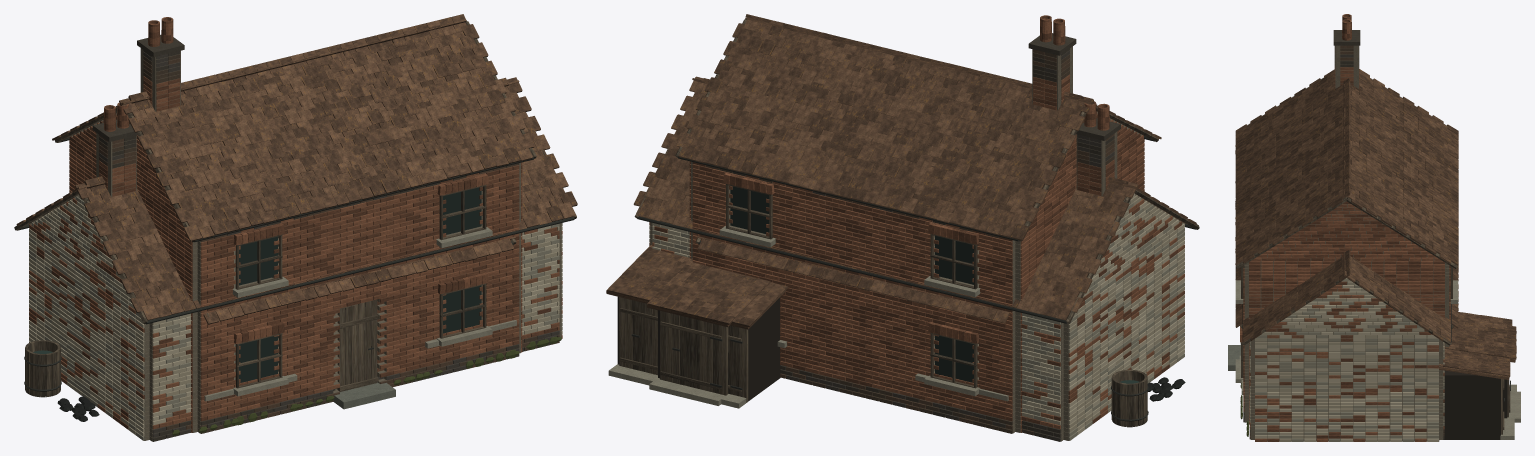
Rendered from cottages.glb.
The picture shows the model from 3 angles, left to right: view 1: azimuth 30°, elevation 25°; view 2: azimuth 150°, elevation 25°; view 3: azimuth 270°, elevation 25°; orthographic projection. The views are drawn at different scales.
Visible parts, largest first — view 1: Roof tiles.011, Roof tiles.007, Roof tiles.010, Roof tiles.009, Roof tiles.008, Roof tiles.006, Brick.040, Brick.042, Brick.041, Brick.027, Brick.021, Brick.020 (+53 smaller); view 2: Roof tiles.006, Roof tiles.008, Roof tiles.009, Roof tiles.011, Roof tiles.010, Roof tiles.007, Brick.042, Brick.040, Brick.041, Brick.019, Brick.026, Brick.027 (+55 smaller); view 3: Brick.040, Brick.042, Brick.041, Roof tiles.011, Roof tiles.010, Roof tiles.009, Roof tiles.008, Roof tiles.007, Roof tiles.006, Gables.002, Outhouse.002, Gables.001 (+38 smaller).
Part boxes in pixels (x1,y1,x2,y2): Roof tiles.011: (52, 24, 500, 241); Roof tiles.007: (115, 28, 522, 223); Roof tiles.010: (61, 22, 534, 226); Roof tiles.009: (70, 25, 532, 238); Roof tiles.008: (88, 31, 525, 226); Roof tiles.006: (79, 19, 515, 229); Brick.040: (29, 195, 562, 436); Brick.042: (29, 200, 562, 435); Brick.041: (29, 196, 562, 440); Brick.027: (69, 126, 522, 424); Brick.021: (69, 121, 522, 420); Brick.020: (69, 147, 522, 409); Roof tiles.006: (674, 17, 1124, 318); Roof tiles.008: (662, 26, 1093, 313); Roof tiles.009: (678, 20, 1143, 321); Roof tiles.011: (666, 17, 1161, 316); Roof tiles.010: (647, 22, 1115, 324); Roof tiles.007: (654, 29, 1133, 317); Brick.042: (649, 195, 1184, 432); Brick.040: (649, 193, 1184, 435); Brick.041: (649, 201, 1184, 440); Brick.019: (689, 131, 1144, 424); Brick.026: (689, 120, 1144, 413); Brick.027: (692, 111, 1136, 403); Brick.040: (1249, 285, 1444, 441); Brick.042: (1249, 278, 1444, 441); Brick.041: (1249, 285, 1444, 441); Roof tiles.011: (1235, 74, 1516, 354); Roof tiles.010: (1235, 78, 1516, 359); Roof tiles.009: (1235, 72, 1516, 351); Roof tiles.008: (1235, 76, 1516, 356); Roof tiles.007: (1235, 69, 1516, 357); Roof tiles.006: (1235, 76, 1516, 352); Gables.002: (1255, 281, 1439, 441); Outhouse.002: (1443, 370, 1500, 439); Gables.001: (1248, 197, 1445, 422).
Bounding box in the file's own units: 10.64 × 7.79 × 7.15.
Materials: 19 (10 with a texture image).
